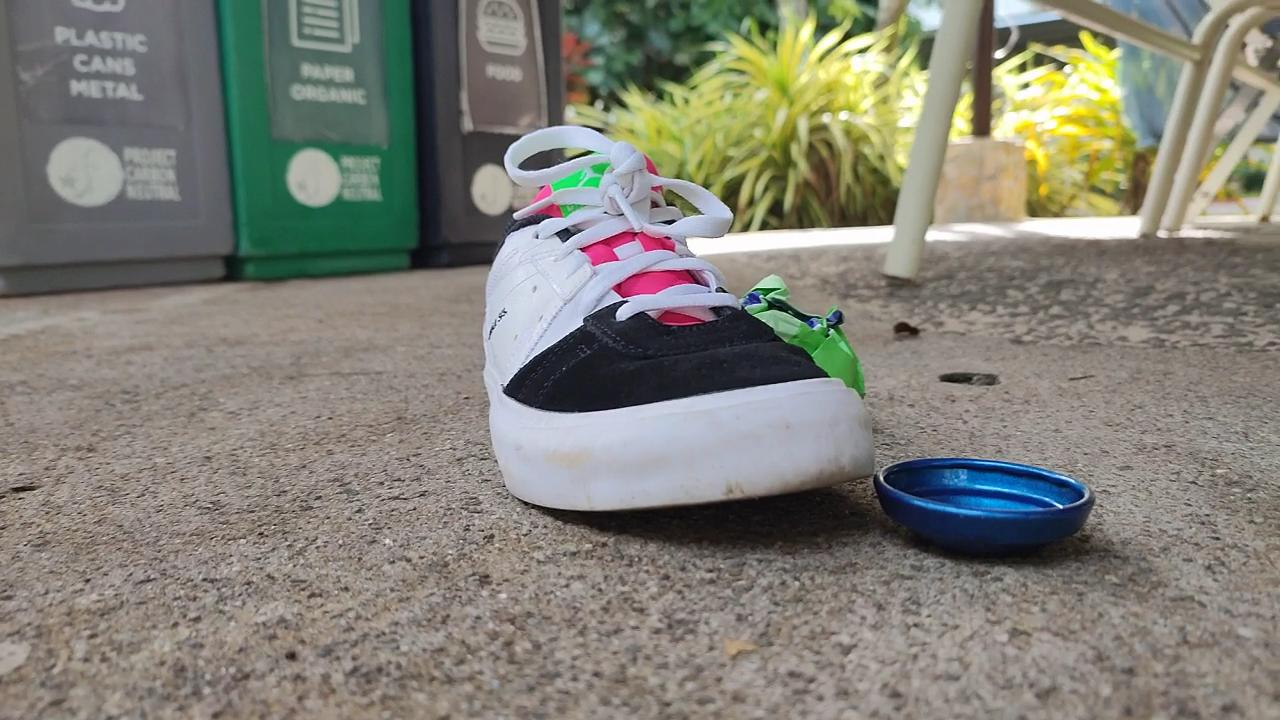Paper: (739, 258, 870, 414)
